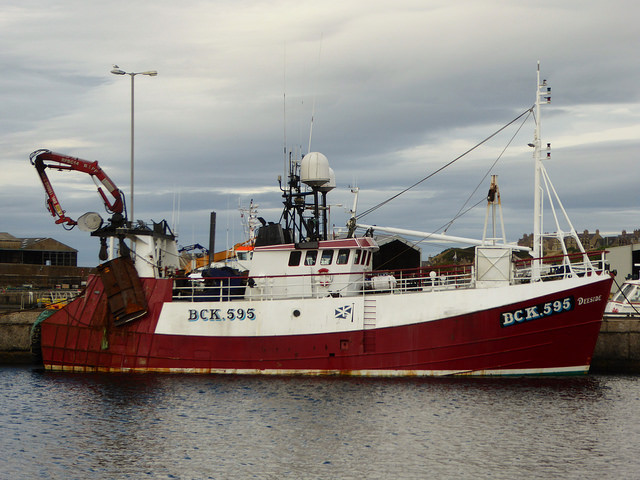fishing_boat: (38, 62, 615, 380)
